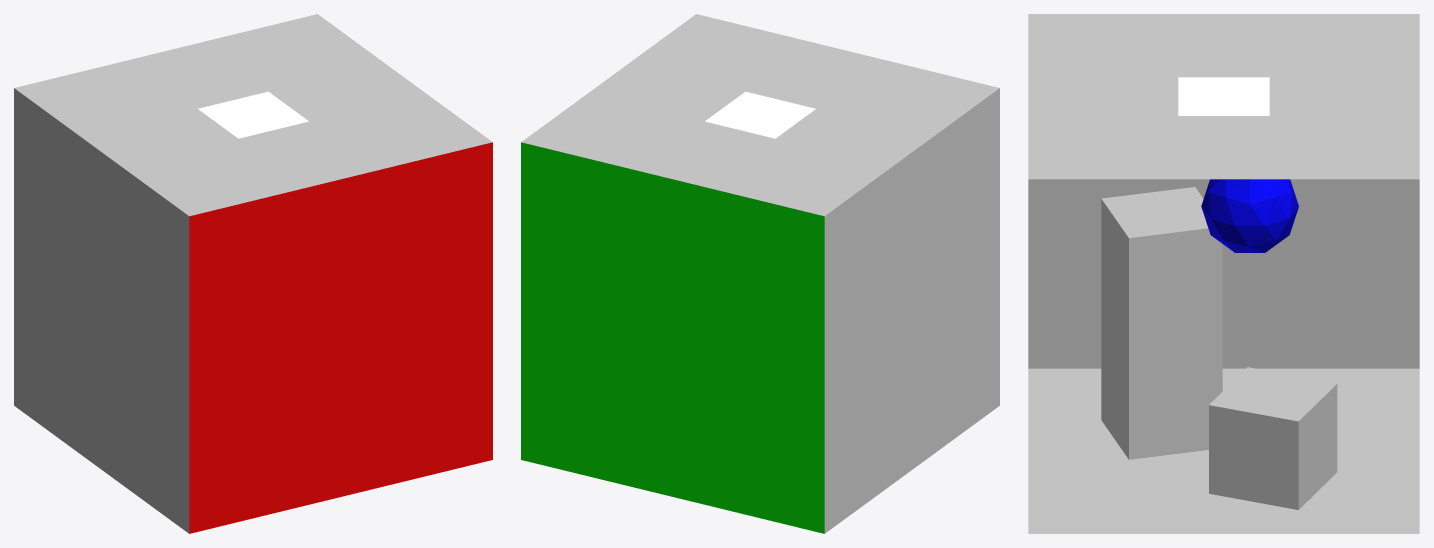
The model's file is my_cornell_7.gltf.
3 views of the same model, side by side, from view 1: azimuth 30°, elevation 25°; view 2: azimuth 150°, elevation 25°; view 3: azimuth 270°, elevation 25° (orthographic). The views are drawn at different scales.
Visible parts, largest first — view 1: LeftWall, BackWall, Ceiling, Light; view 2: RightWall, BackWall, Ceiling, Light; view 3: Ceiling, BackWall, Floor, Prism, Cube, Icosphere, Light.
Boxes of the visible parts, x1,y1,x2,y2 form: LeftWall: (189, 142, 492, 533); BackWall: (14, 88, 189, 533); Ceiling: (14, 14, 492, 216); Light: (198, 91, 308, 138); RightWall: (521, 142, 824, 533); BackWall: (824, 88, 999, 533); Ceiling: (521, 14, 999, 216); Light: (705, 91, 815, 138); Ceiling: (1028, 14, 1419, 179); BackWall: (1028, 179, 1419, 368); Floor: (1028, 368, 1419, 533); Prism: (1101, 187, 1222, 459); Cube: (1209, 367, 1337, 509); Icosphere: (1201, 179, 1298, 252); Light: (1178, 77, 1269, 115).
Bounding box in the file's own units: 8 × 8 × 8.
